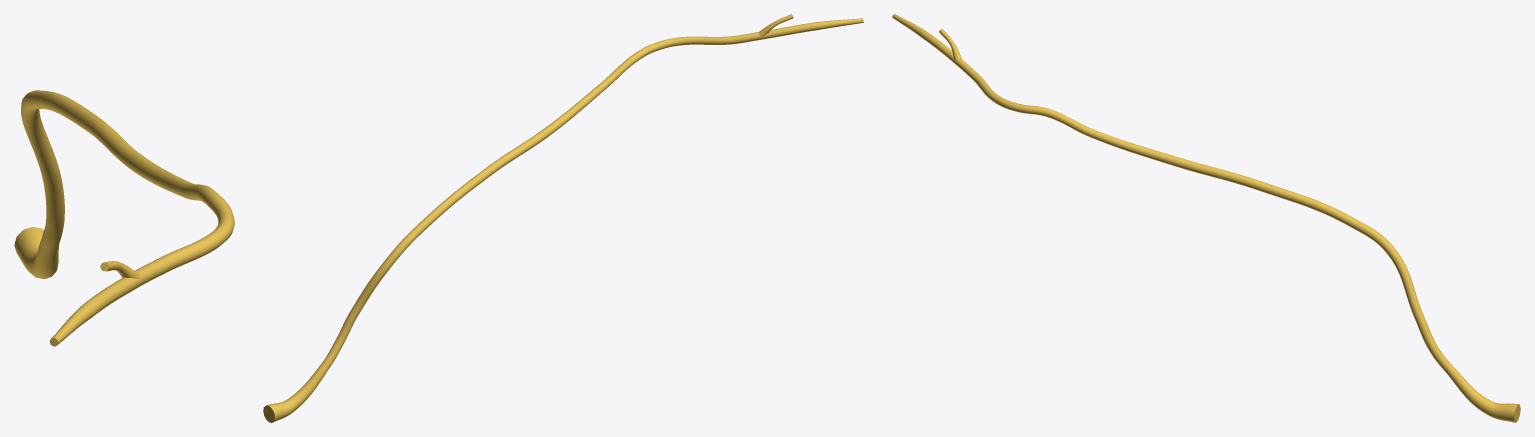
File: Abducens_nerve_right.glb
3 renders of one model, left to right at view 1: azimuth 30°, elevation 25°; view 2: azimuth 150°, elevation 25°; view 3: azimuth 270°, elevation 25°, orthographic. The views are drawn at different scales.
Visible parts, largest first — view 1: Abducens_nerve_(VI).r_BezierCurve.554; view 2: Abducens_nerve_(VI).r_BezierCurve.554; view 3: Abducens_nerve_(VI).r_BezierCurve.554.
Part boxes in pixels (x1,y1,x2,y2): Abducens_nerve_(VI).r_BezierCurve.554: (14, 90, 234, 346); Abducens_nerve_(VI).r_BezierCurve.554: (263, 14, 863, 422); Abducens_nerve_(VI).r_BezierCurve.554: (892, 14, 1520, 422).
Bounding box in the file's own units: 0.0297 × 0.0249 × 0.0523.
